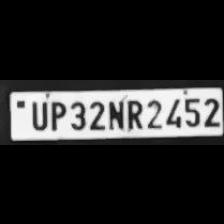2: (201, 93, 221, 127), (86, 96, 104, 130), (144, 96, 162, 128)
3: (66, 97, 86, 129)
4: (162, 94, 180, 128)
5: (180, 93, 200, 126)
N: (105, 96, 123, 130)
P: (46, 97, 66, 130)
R: (123, 95, 143, 129)
U: (28, 97, 48, 129)
